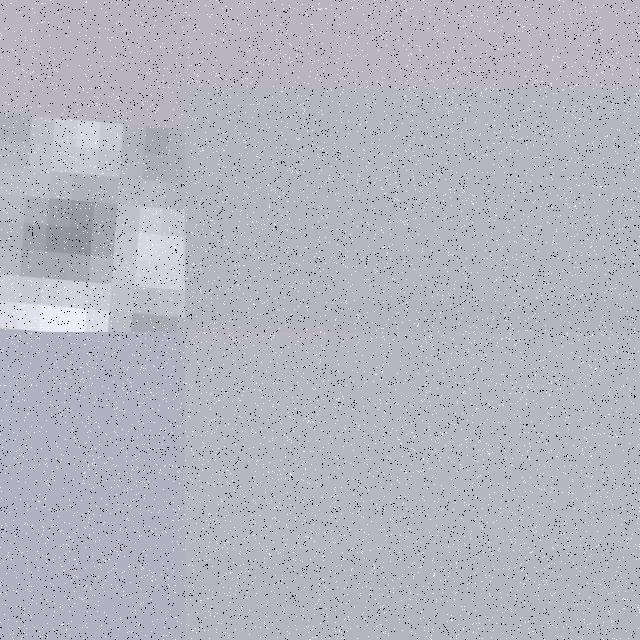drone: (0, 0, 185, 332)
